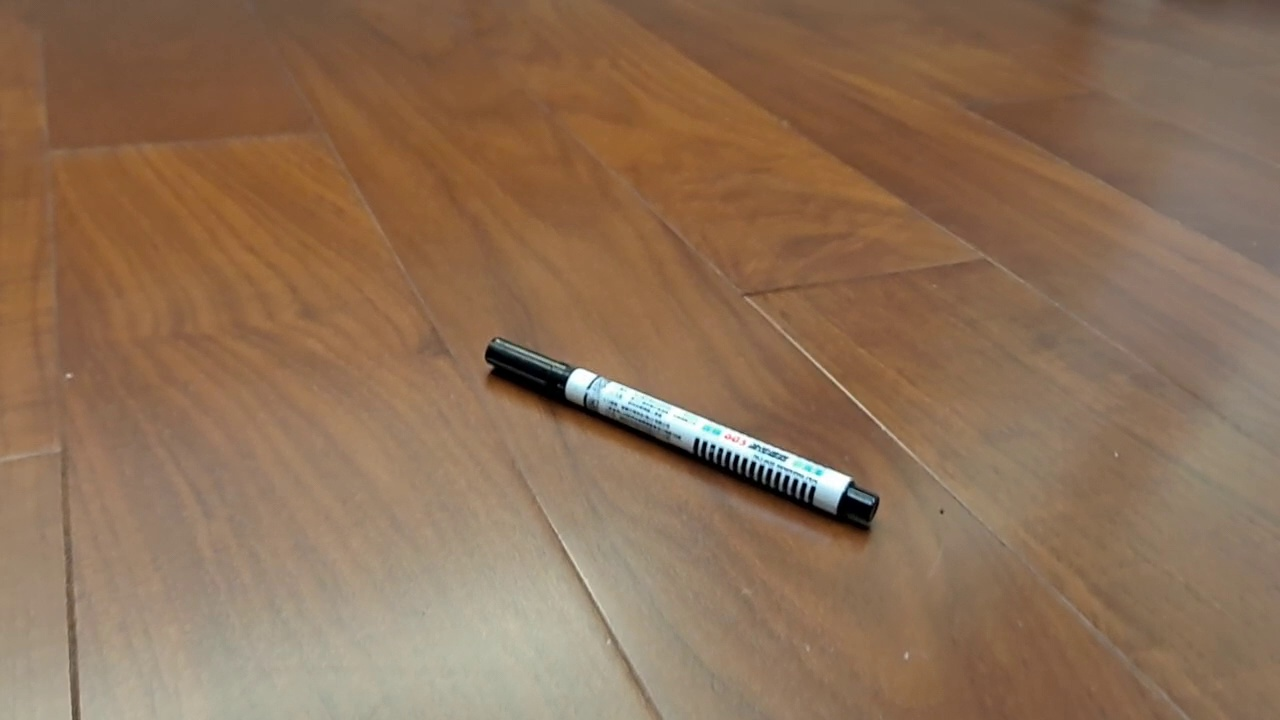pen: (484, 335, 881, 524)
